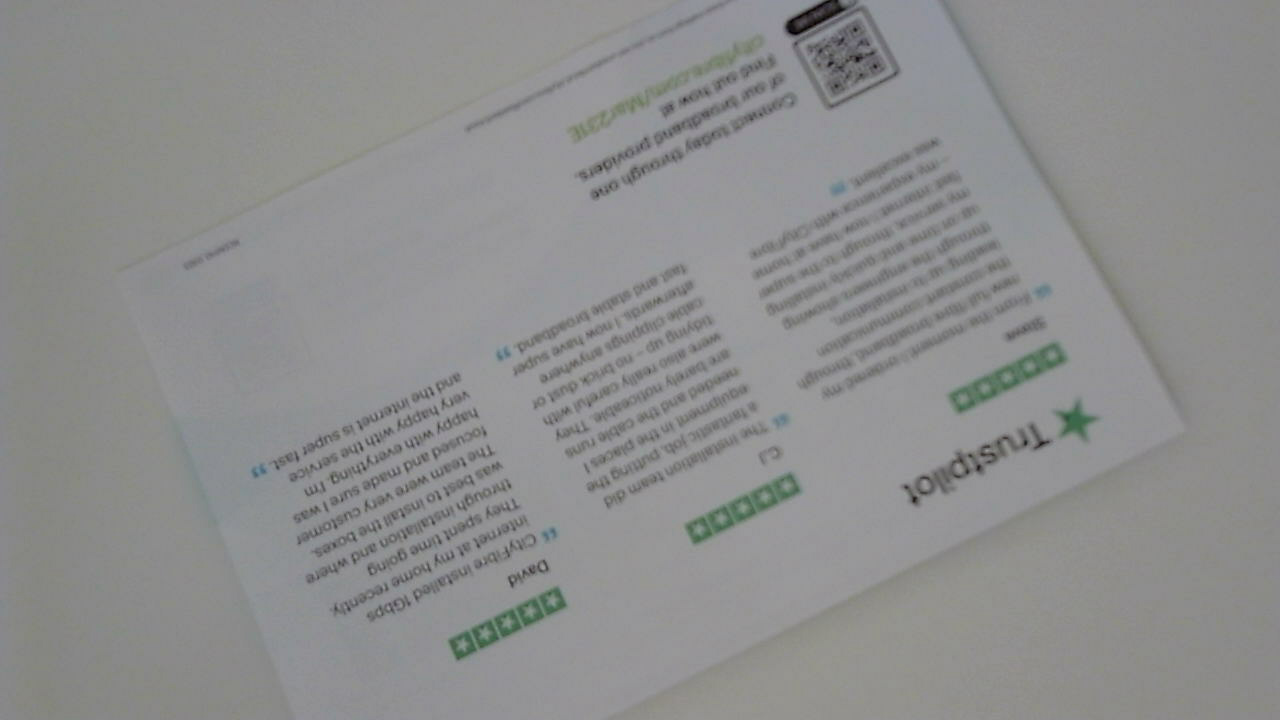Mixed Paper: (110, 8, 1195, 720)
